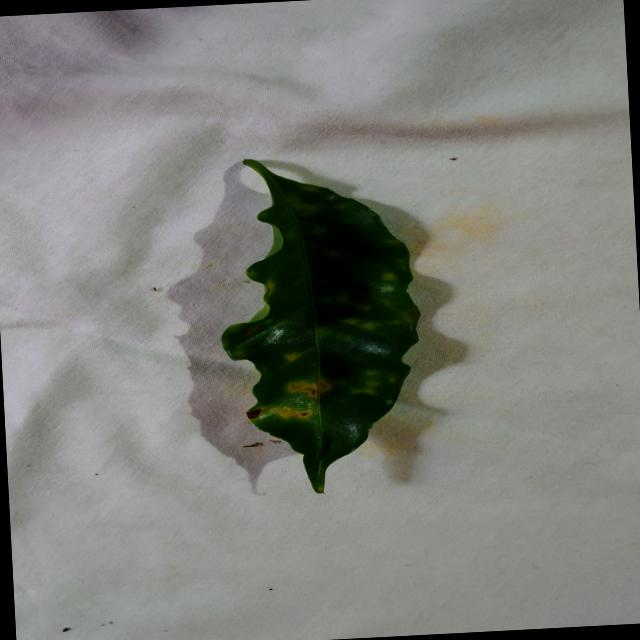KaratDaunKopi: (275, 408, 312, 420), (287, 382, 317, 396), (247, 409, 262, 420), (284, 353, 302, 362), (245, 326, 259, 337), (335, 294, 350, 304), (318, 380, 330, 392), (362, 322, 377, 330), (343, 318, 358, 325), (366, 381, 378, 387)
